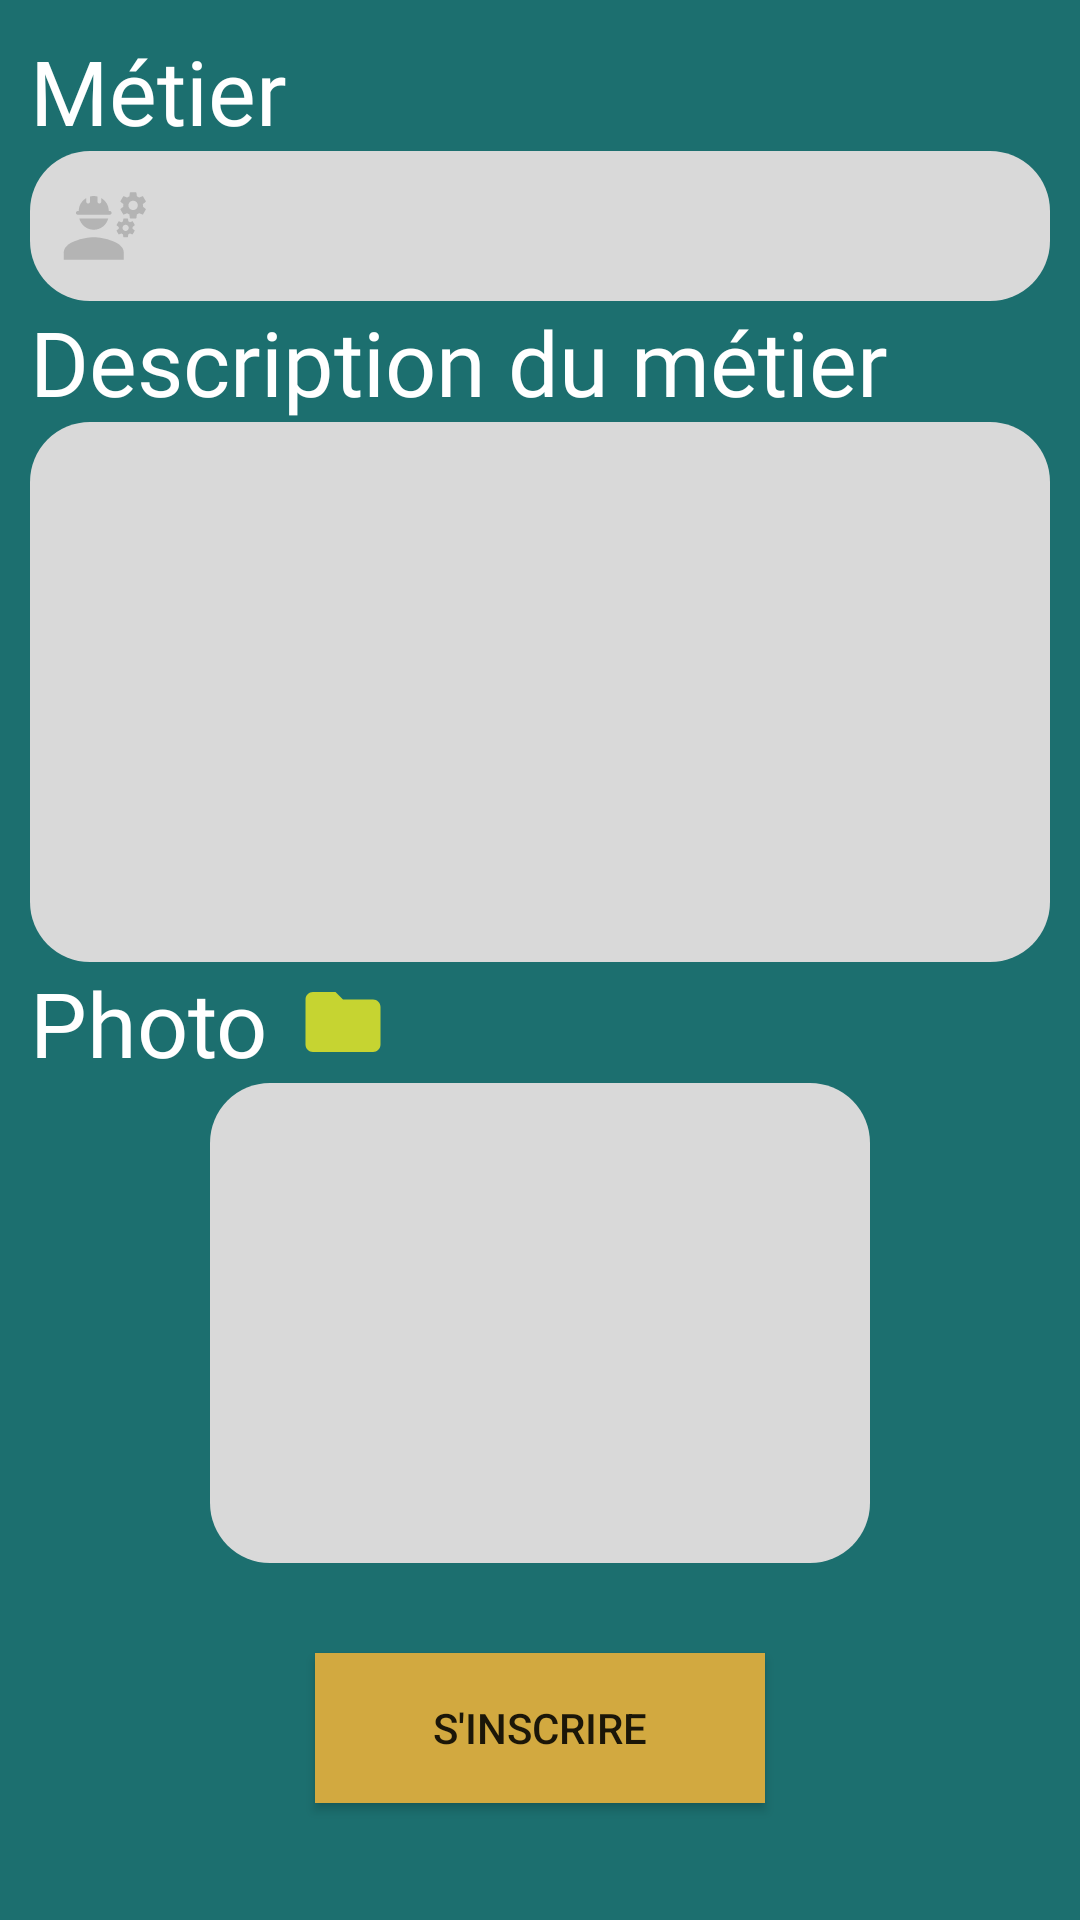

Screen size 1080 × 1920. Icon name, then its box in pixels as bbox(x1, y1, x2, y2):
folder: bbox(305, 992, 381, 1052)
